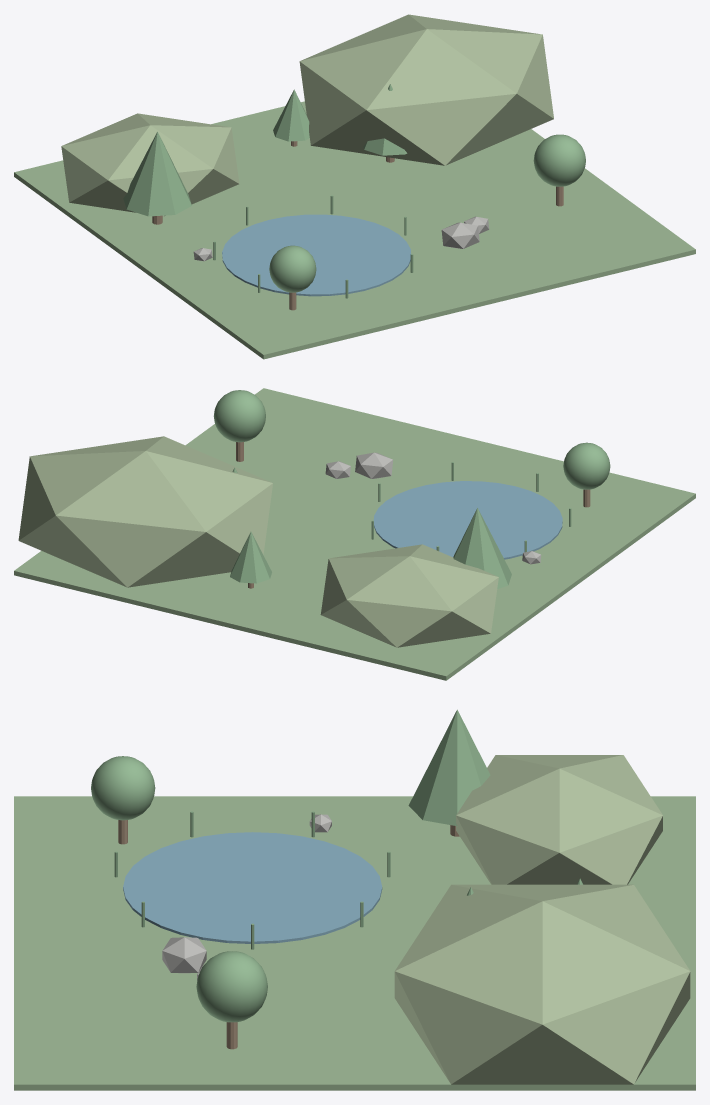
Rendered from nature.glb.
3 views of the same model, one above another, from view 1: azimuth 30°, elevation 25°; view 2: azimuth 150°, elevation 25°; view 3: azimuth 270°, elevation 25° (orthographic). The views are drawn at different scales.
Visible parts, largest first — view 1: Ground, HillA, HillB, Pond, TreeA_crown, TreeC_crown, TreeD_crown, TreeE_crown, RockA, TreeB_crown; view 2: Ground, HillA, HillB, Pond, TreeC_crown, TreeA_crown, TreeD_crown, TreeE_crown, RockA; view 3: Ground, HillA, Pond, HillB, TreeA_crown, TreeC_crown, TreeD_crown, RockA.
Boxes of the visible parts, x1,y1,x2,y2 form: Ground: (14, 101, 695, 359); HillA: (299, 14, 553, 165); HillB: (61, 113, 239, 216); Pond: (222, 214, 410, 296); TreeA_crown: (123, 132, 191, 216); TreeC_crown: (533, 134, 585, 186); TreeD_crown: (269, 245, 316, 292); TreeE_crown: (273, 89, 309, 141); RockA: (441, 222, 479, 248); TreeB_crown: (363, 84, 407, 155); Ground: (14, 388, 695, 680); HillA: (18, 436, 272, 587); HillB: (320, 544, 498, 647); Pond: (373, 481, 562, 559); TreeC_crown: (213, 390, 265, 442); TreeA_crown: (453, 508, 511, 588); TreeD_crown: (563, 442, 610, 489); TreeE_crown: (230, 531, 271, 583); RockA: (355, 452, 393, 478); Ground: (14, 796, 695, 1090); HillA: (394, 884, 690, 1084); Pond: (123, 832, 382, 943); HillB: (456, 755, 662, 884); TreeA_crown: (408, 709, 490, 826); TreeC_crown: (196, 951, 267, 1022); TreeD_crown: (91, 756, 155, 820); RockA: (162, 937, 206, 973).
Size of the model in its own units: 21.87 by 5.4 by 20.
